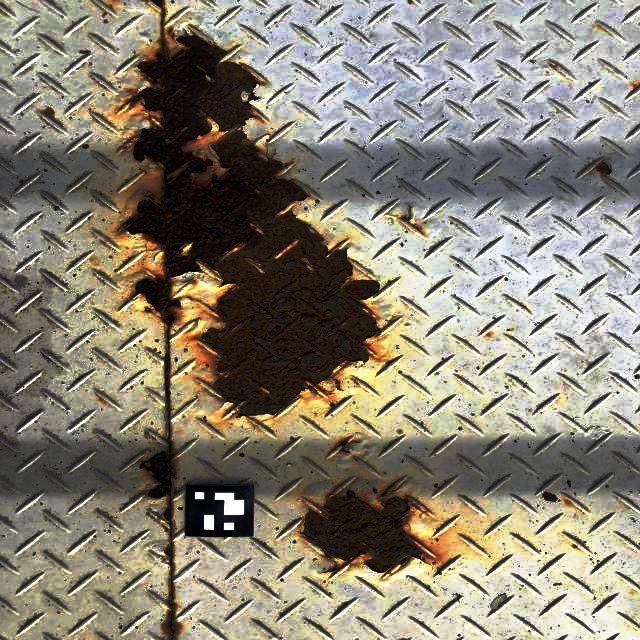Corrosion: (126, 27, 381, 418), (300, 490, 439, 579), (139, 440, 177, 523), (400, 210, 426, 238), (161, 617, 182, 636), (122, 134, 140, 151), (595, 160, 613, 177), (339, 440, 351, 456), (150, 0, 164, 10), (163, 546, 173, 558)
